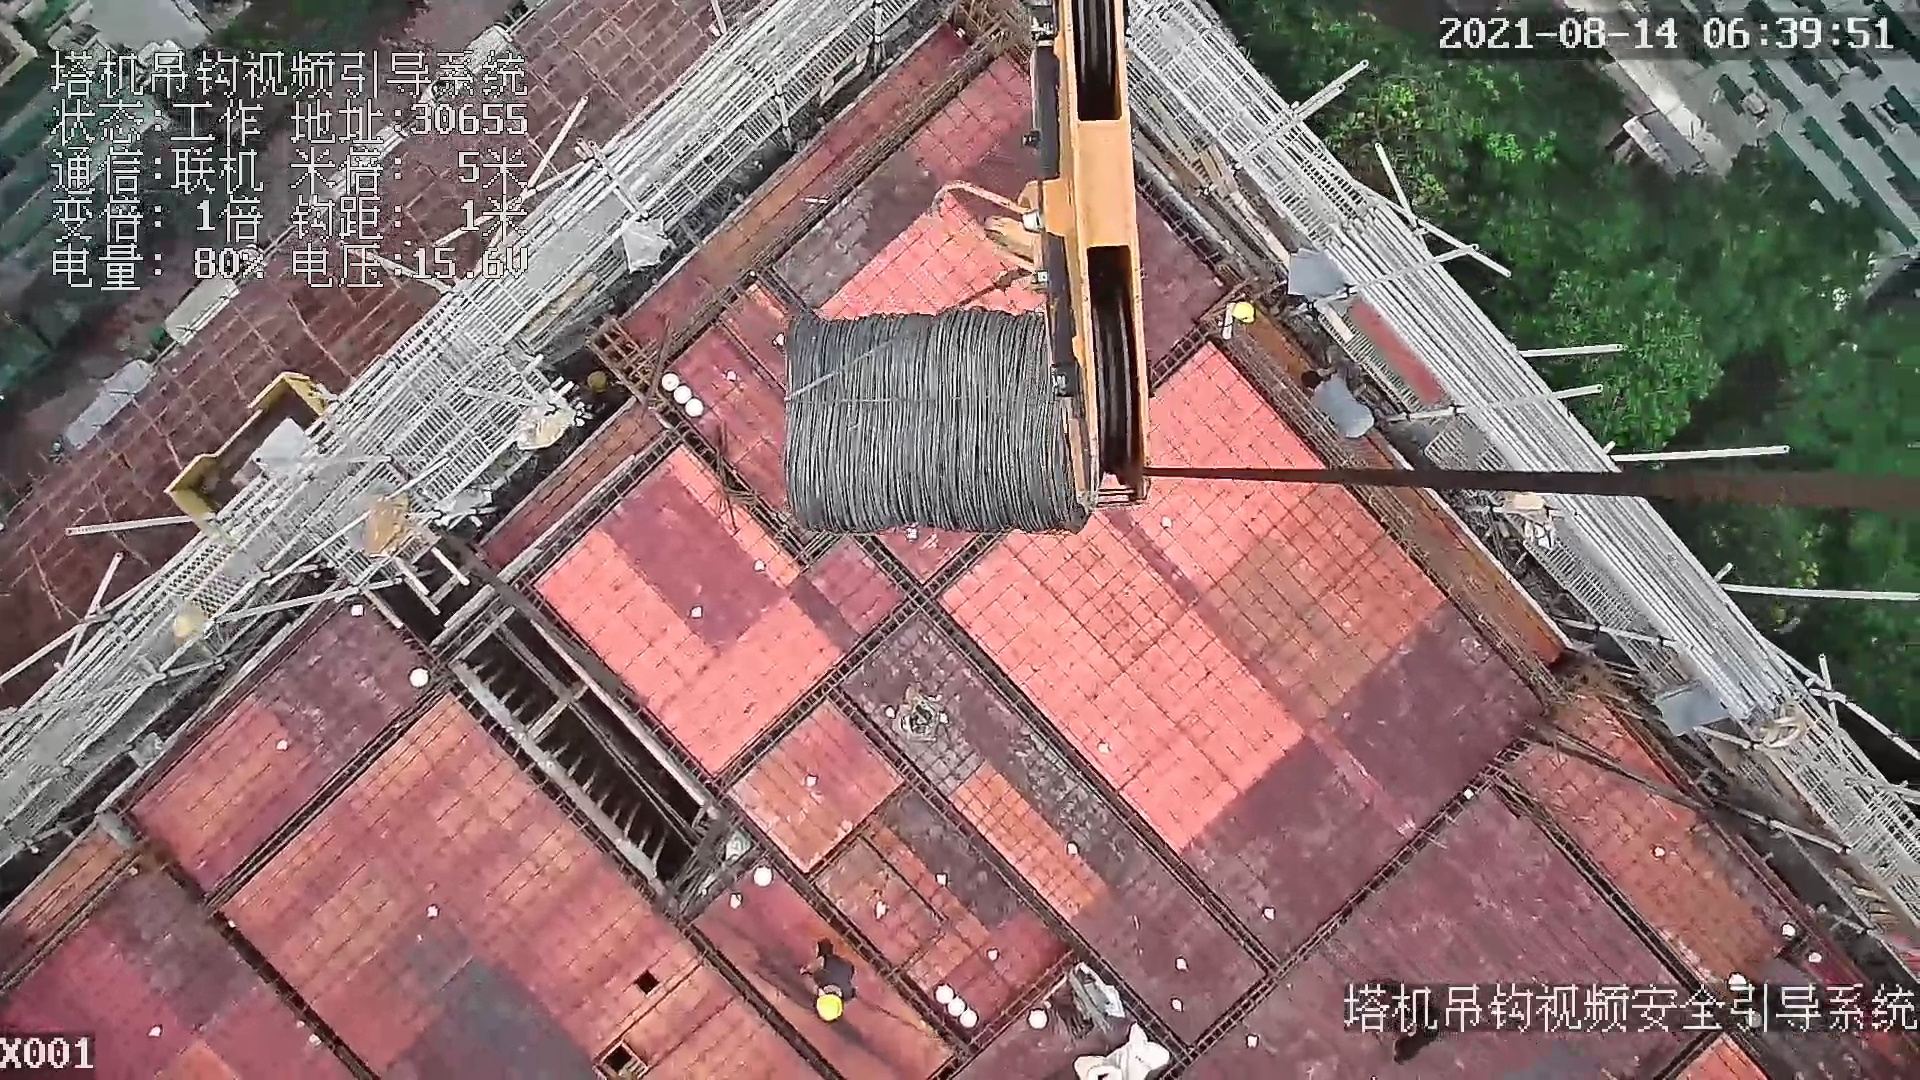helmet: (811, 990, 853, 1020)
hook: (933, 1, 1155, 508)
person: (802, 938, 885, 1039), (1292, 355, 1378, 440)
